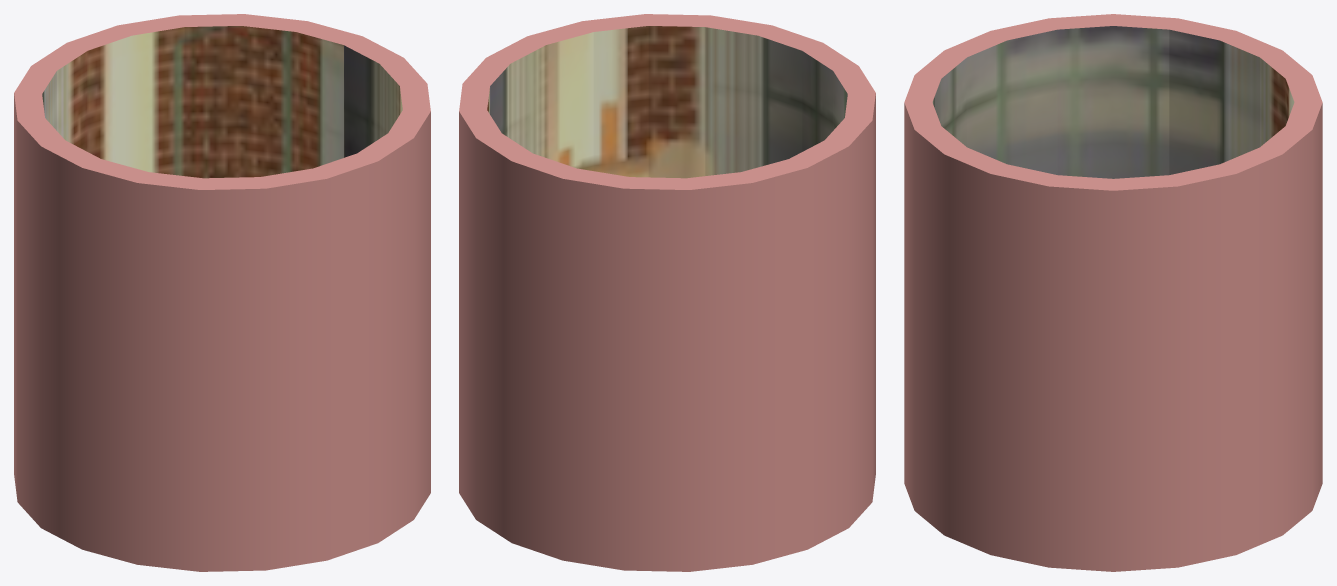
Rendered from BackGround.fbx.
3 views of the same model, side by side, from view 1: azimuth 30°, elevation 25°; view 2: azimuth 150°, elevation 25°; view 3: azimuth 270°, elevation 25° (orthographic).
Visible parts, largest first — view 1: polySurface1; view 2: polySurface1; view 3: polySurface1.
Boxes of the visible parts, box(x1,y1,x2,y2) form: polySurface1: box(14, 14, 430, 571); polySurface1: box(459, 14, 875, 571); polySurface1: box(904, 14, 1322, 571).
Bounding box in the file's own units: 8.64 × 8.68 × 8.64.
Materials: 2 (1 with a texture image).
